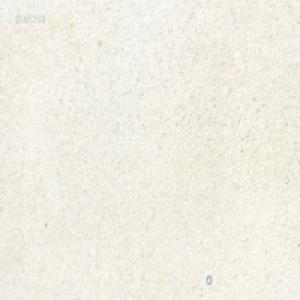Washer: (205, 273, 211, 284)
